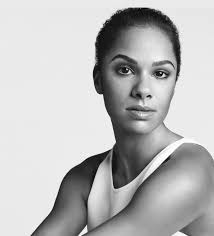black_female: (89, 4, 189, 142)
